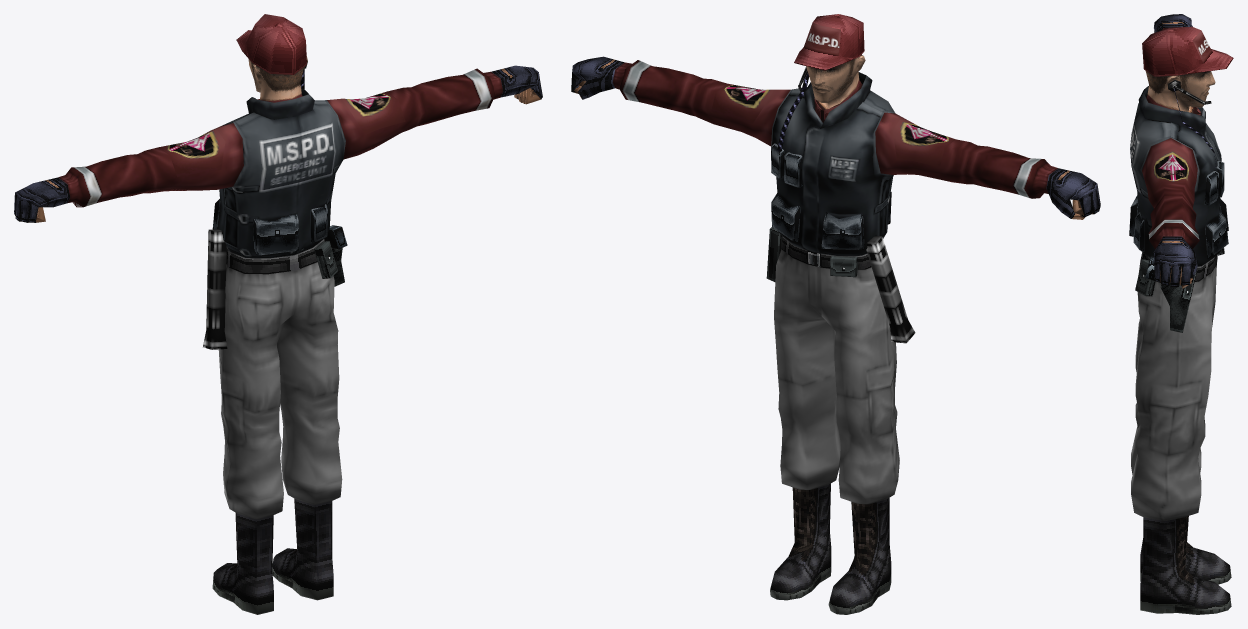
The model's file is o_lke_mdout.dae.
The picture shows the model from 3 angles, left to right: view 1: azimuth 30°, elevation 25°; view 2: azimuth 150°, elevation 25°; view 3: azimuth 270°, elevation 25°; orthographic projection.
Parts seen in each view (by area): view 1: mesh0009, mesh0000, mesh0002, mesh0006, mesh0003, mesh0004, mesh0013, mesh0001, mesh0012; view 2: mesh0009, mesh0000, mesh0002, mesh0006, mesh0003, mesh0004, mesh0001, mesh0012, mesh0013; view 3: mesh0009, mesh0006, mesh0000, mesh0002, mesh0013, mesh0004, mesh0001, mesh0012, mesh0003, mesh0010, mesh0007, mesh0014 (+1 smaller).
Boxes of the visible parts, left/top/right/bottom form: mesh0009: left=218, top=262, right=342, bottom=519; mesh0000: left=203, top=88, right=345, bottom=349; mesh0002: left=58, top=68, right=502, bottom=207; mesh0006: left=212, top=239, right=333, bottom=614; mesh0003: left=159, top=91, right=405, bottom=177; mesh0004: left=14, top=65, right=542, bottom=222; mesh0013: left=236, top=14, right=306, bottom=74; mesh0001: left=212, top=199, right=327, bottom=255; mesh0012: left=248, top=56, right=307, bottom=102; mesh0009: left=774, top=249, right=899, bottom=504; mesh0000: left=771, top=72, right=915, bottom=343; mesh0002: left=612, top=60, right=1057, bottom=198; mesh0006: left=770, top=237, right=891, bottom=614; mesh0003: left=711, top=22, right=955, bottom=167; mesh0004: left=571, top=56, right=1100, bottom=219; mesh0001: left=771, top=143, right=891, bottom=249; mesh0012: left=806, top=54, right=865, bottom=122; mesh0013: left=794, top=14, right=864, bottom=70; mesh0009: left=1131, top=262, right=1216, bottom=520; mesh0006: left=1140, top=252, right=1231, bottom=614; mesh0000: left=1130, top=86, right=1221, bottom=266; mesh0002: left=1142, top=28, right=1199, bottom=249; mesh0013: left=1142, top=26, right=1233, bottom=76; mesh0004: left=1153, top=14, right=1197, bottom=288; mesh0001: left=1129, top=160, right=1228, bottom=258; mesh0012: left=1145, top=71, right=1215, bottom=115; mesh0003: left=1145, top=30, right=1211, bottom=199; mesh0010: left=1160, top=269, right=1196, bottom=332; mesh0007: left=1135, top=248, right=1224, bottom=296; mesh0014: left=1168, top=80, right=1211, bottom=104.
Bounding box in the file's own units: 17.37 × 18.09 × 3.05.
Materials: 13 (13 with a texture image).
